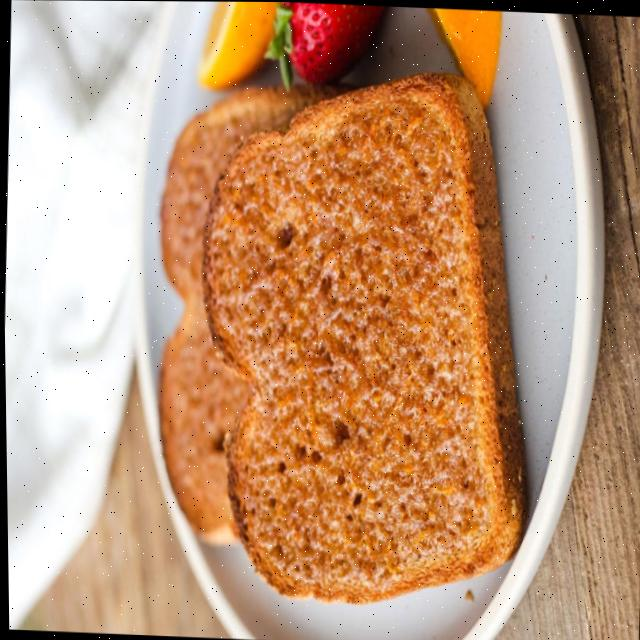Bread: (203, 72, 523, 602)
